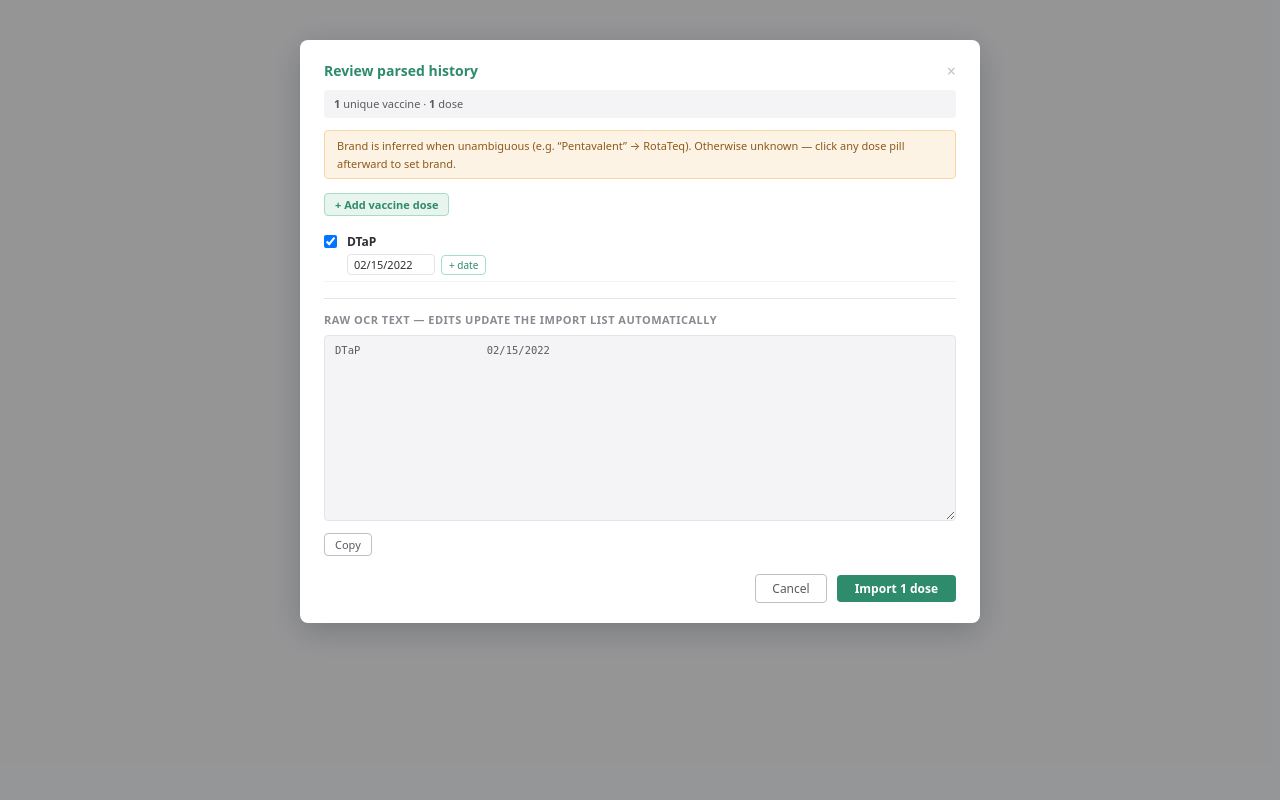
Test case: ReviewModal — Feature B: add vaccine dose form › clicking the button reveals the form with a vaccine select
Click the button with test id "ocr-add-vax-btn" at (387, 205), box [324,193,449,216]
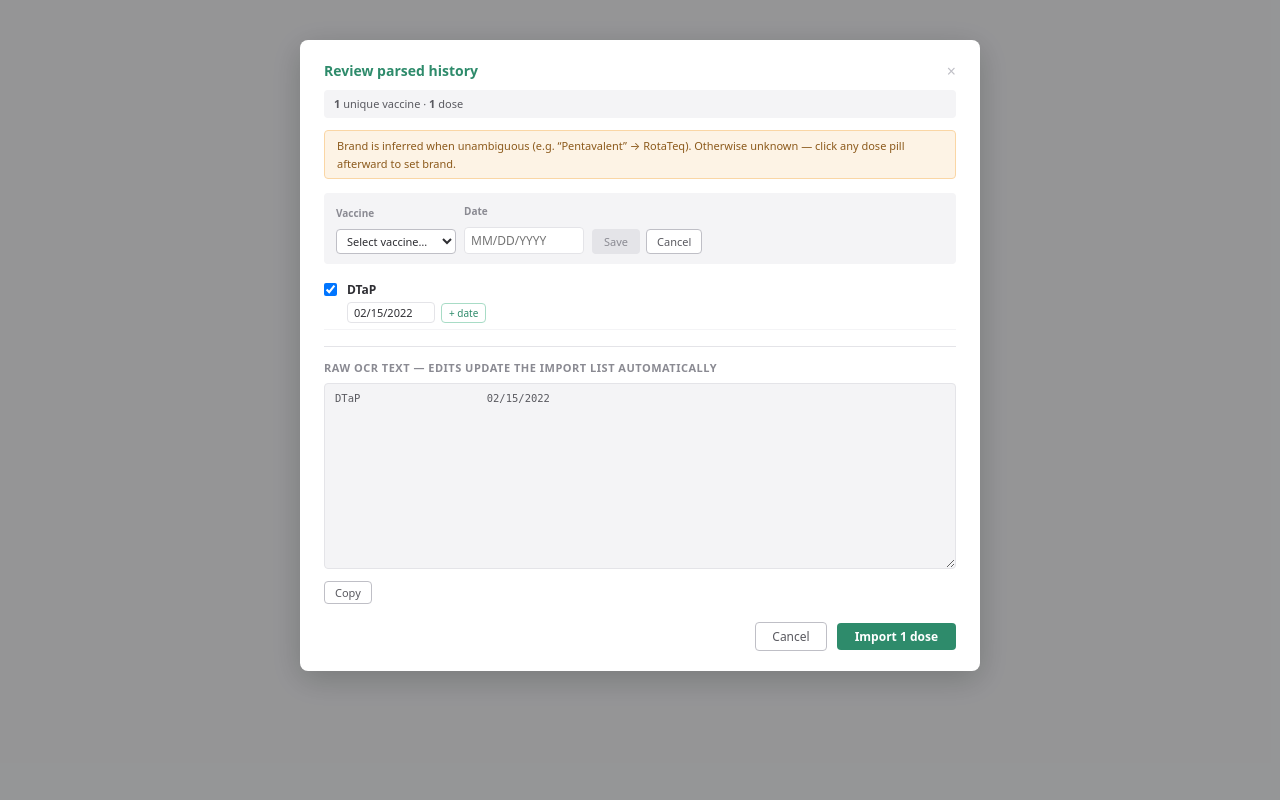
Expected: the element with test id "ocr-add-vax-form" is shown, [324,193,956,264]
Expected: the dropdown with test id "ocr-add-vax-select" is shown, [336,229,456,254]
Expected: the button with test id "ocr-add-vax-save" is disabled, [592,229,640,254]
